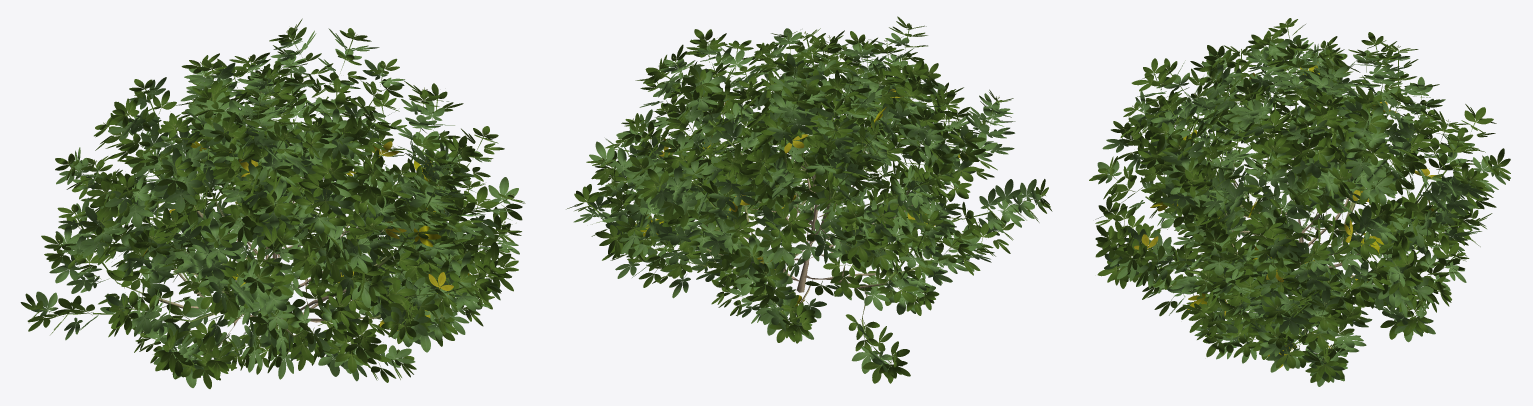
File: arbuste.glb
3 renders of one model, left to right at view 1: azimuth 30°, elevation 25°; view 2: azimuth 150°, elevation 25°; view 3: azimuth 270°, elevation 25°, orthographic. The views are drawn at different scales.
Parts seen in each view (by area): view 1: Choisya_ternata_HD_Choisya leaf 01_0, Choisya_ternata_HD_Choisya leaf 02 back_0, Choisya_ternata_HD_Choisya bark_0, Choisya_ternata_HD_Choisya twig_0, Choisya_ternata_HD_Choisya leaf 01 dry 1_0, Choisya_ternata_HD_Choisya bud_0, Choisya_ternata_HD_Choisya leaf 02 dry 1 back_0; view 2: Choisya_ternata_HD_Choisya leaf 01_0, Choisya_ternata_HD_Choisya leaf 02 back_0, Choisya_ternata_HD_Choisya bark_0, Choisya_ternata_HD_Choisya twig_0, Choisya_ternata_HD_Choisya leaf 01 dry 1_0, Choisya_ternata_HD_Choisya bud_0; view 3: Choisya_ternata_HD_Choisya leaf 01_0, Choisya_ternata_HD_Choisya leaf 02 back_0, Choisya_ternata_HD_Choisya bark_0, Choisya_ternata_HD_Choisya twig_0, Choisya_ternata_HD_Choisya leaf 01 dry 1_0, Choisya_ternata_HD_Choisya leaf 02 dry 1 back_0, Choisya_ternata_HD_Choisya bud_0.
Part boxes in pixels (<box>): Choisya_ternata_HD_Choisya leaf 01_0: <box>20,18,525,388</box>; Choisya_ternata_HD_Choisya leaf 02 back_0: <box>31,28,519,387</box>; Choisya_ternata_HD_Choisya bark_0: <box>89,96,447,351</box>; Choisya_ternata_HD_Choisya twig_0: <box>40,34,508,361</box>; Choisya_ternata_HD_Choisya leaf 01 dry 1_0: <box>142,117,453,330</box>; Choisya_ternata_HD_Choisya bud_0: <box>36,30,514,358</box>; Choisya_ternata_HD_Choisya leaf 02 dry 1 back_0: <box>184,140,471,317</box>; Choisya_ternata_HD_Choisya leaf 01_0: <box>566,16,1052,383</box>; Choisya_ternata_HD_Choisya leaf 02 back_0: <box>573,28,1042,373</box>; Choisya_ternata_HD_Choisya bark_0: <box>649,99,989,344</box>; Choisya_ternata_HD_Choisya twig_0: <box>586,27,1042,362</box>; Choisya_ternata_HD_Choisya leaf 01 dry 1_0: <box>657,89,935,269</box>; Choisya_ternata_HD_Choisya bud_0: <box>601,23,1045,362</box>; Choisya_ternata_HD_Choisya leaf 01_0: <box>1089,18,1510,382</box>; Choisya_ternata_HD_Choisya leaf 02 back_0: <box>1092,35,1510,386</box>; Choisya_ternata_HD_Choisya bark_0: <box>1145,77,1449,348</box>; Choisya_ternata_HD_Choisya twig_0: <box>1107,25,1498,362</box>; Choisya_ternata_HD_Choisya leaf 01 dry 1_0: <box>1134,73,1440,356</box>; Choisya_ternata_HD_Choisya leaf 02 dry 1 back_0: <box>1150,61,1383,368</box>; Choisya_ternata_HD_Choisya bud_0: <box>1105,21,1501,360</box>.
Size of the model in its own units: 1.75 by 1.04 by 1.5.
Materials: 8 (7 with a texture image).
